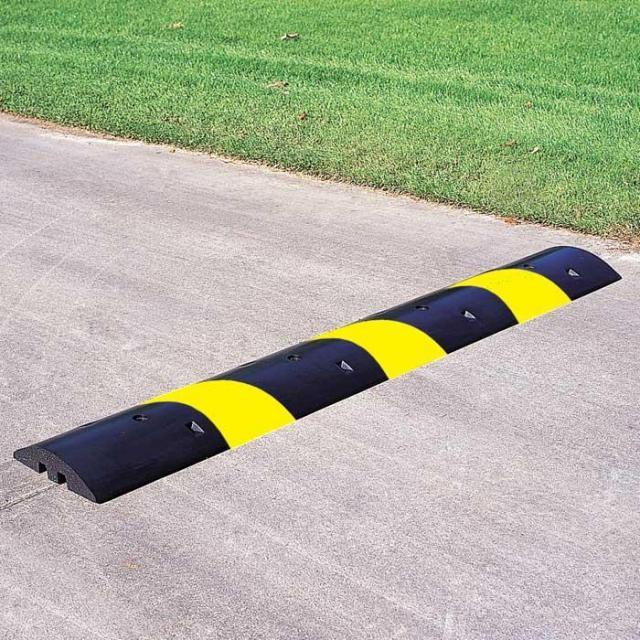Marked Bump: (35, 238, 622, 498)
